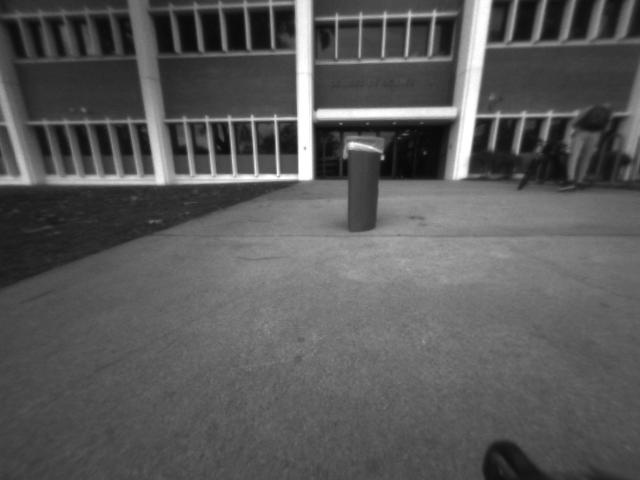trashcan: (338, 129, 390, 237)
